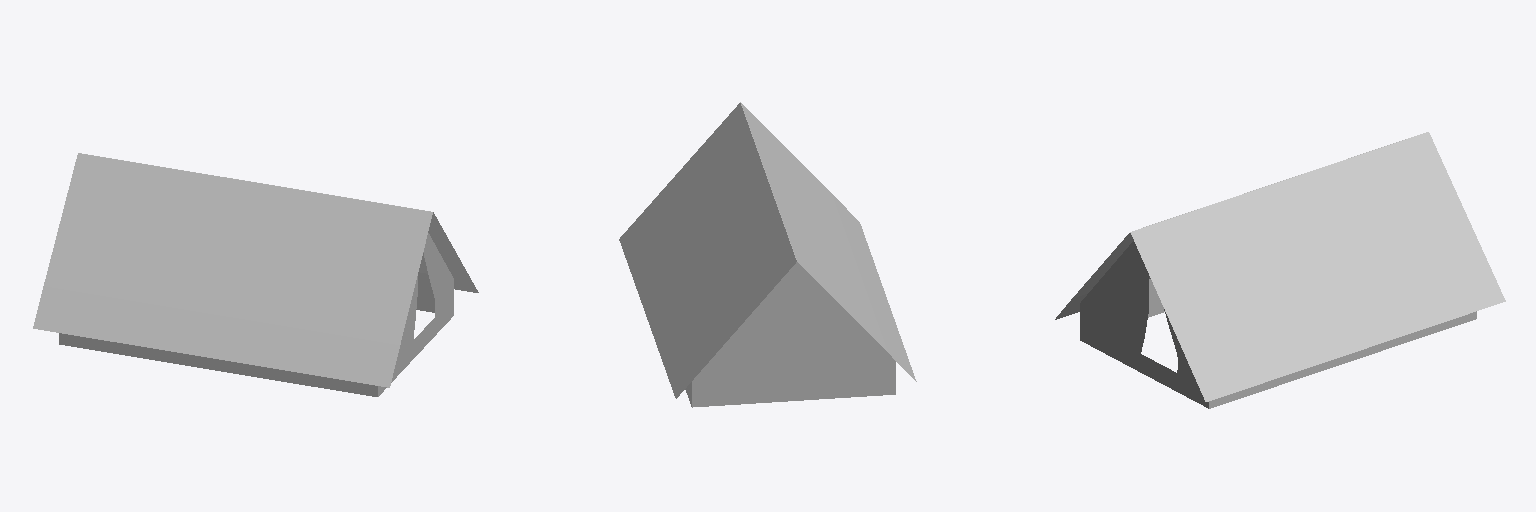
Rendered from tent.obj.
3 renders of one model, left to right at view 1: azimuth 30°, elevation 25°; view 2: azimuth 150°, elevation 25°; view 3: azimuth 270°, elevation 25°, orthographic.
Size of the model in its own units: 35.56 by 13.49 by 37.4.